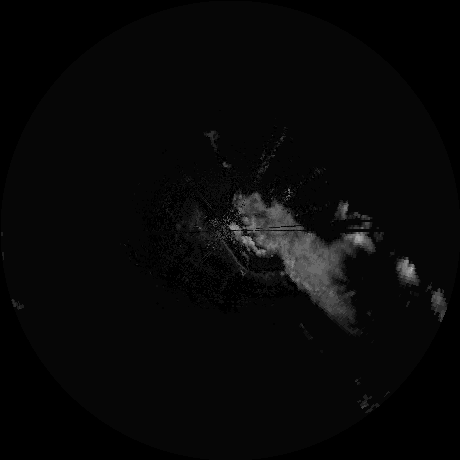frontgust: (217, 236, 253, 274)
